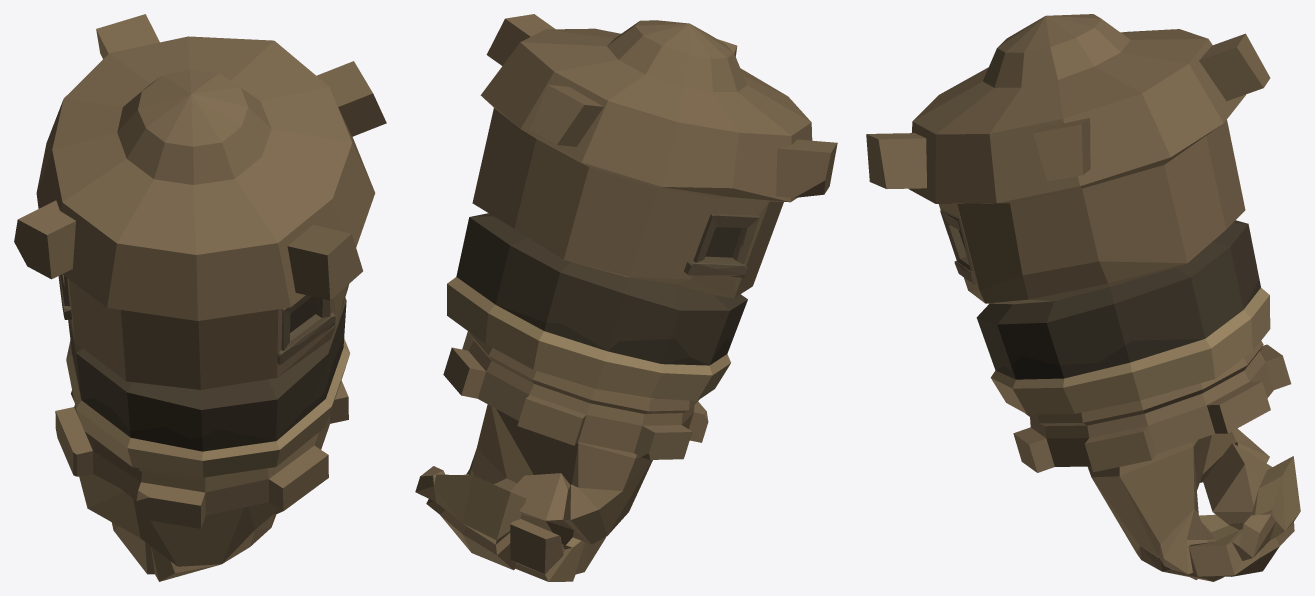
The model's file is arm_l_lower.gltf.
3 renders of one model, left to right at view 1: azimuth 30°, elevation 25°; view 2: azimuth 150°, elevation 25°; view 3: azimuth 270°, elevation 25°, orthographic. The views are drawn at different scales.
Visible parts, largest first — view 1: arm_l_lower; view 2: arm_l_lower; view 3: arm_l_lower.
Boxes of the visible parts, box(x1,y1,x2,y2) form: arm_l_lower: box(14, 14, 386, 581); arm_l_lower: box(415, 14, 837, 581); arm_l_lower: box(866, 14, 1300, 581).
Bounding box in the file's own units: 3.03 × 4.4 × 3.28.
Materials: 1 (1 with a texture image).
